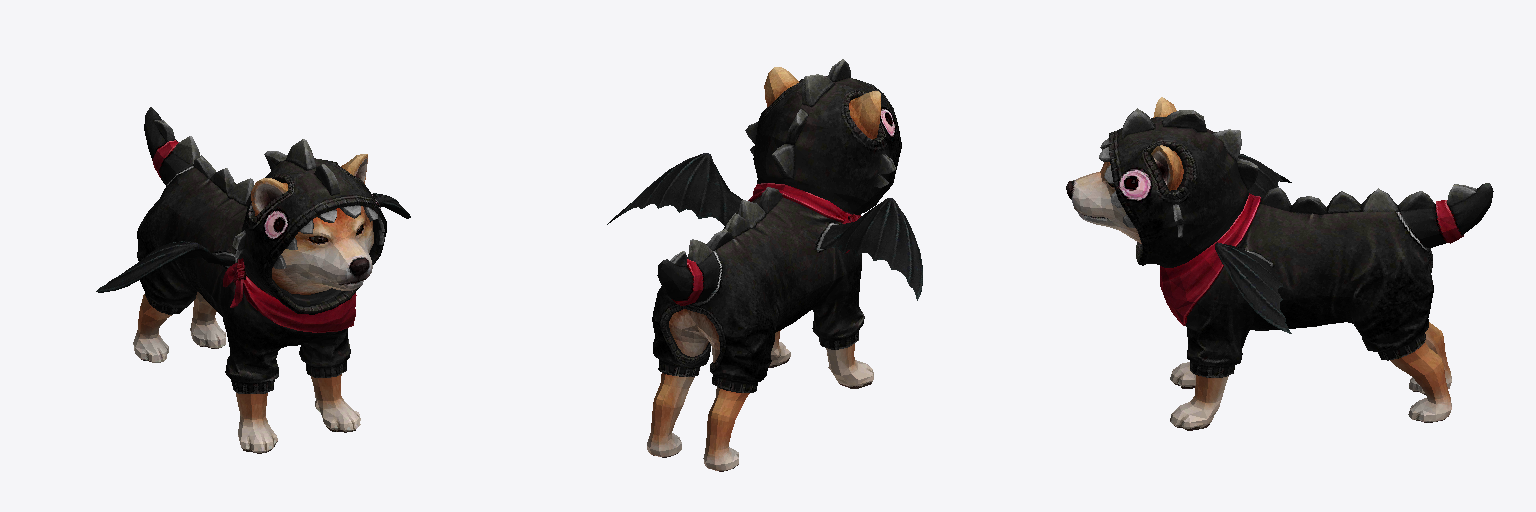
3 views of the same model, side by side, from view 1: azimuth 30°, elevation 25°; view 2: azimuth 150°, elevation 25°; view 3: azimuth 270°, elevation 25° (orthographic).
Parts seen in each view (by area): view 1: Shiba_lobby_Shiba_lobby.004; view 2: Shiba_lobby_Shiba_lobby.004; view 3: Shiba_lobby_Shiba_lobby.004.
Boxes of the visible parts, x1,y1,x2,y2 form: Shiba_lobby_Shiba_lobby.004: [96, 107, 410, 453]; Shiba_lobby_Shiba_lobby.004: [607, 59, 922, 471]; Shiba_lobby_Shiba_lobby.004: [1066, 97, 1493, 430].
Size of the model in its own units: 0.4419 by 0.4008 by 0.5265.
1 materials, 1 textured.